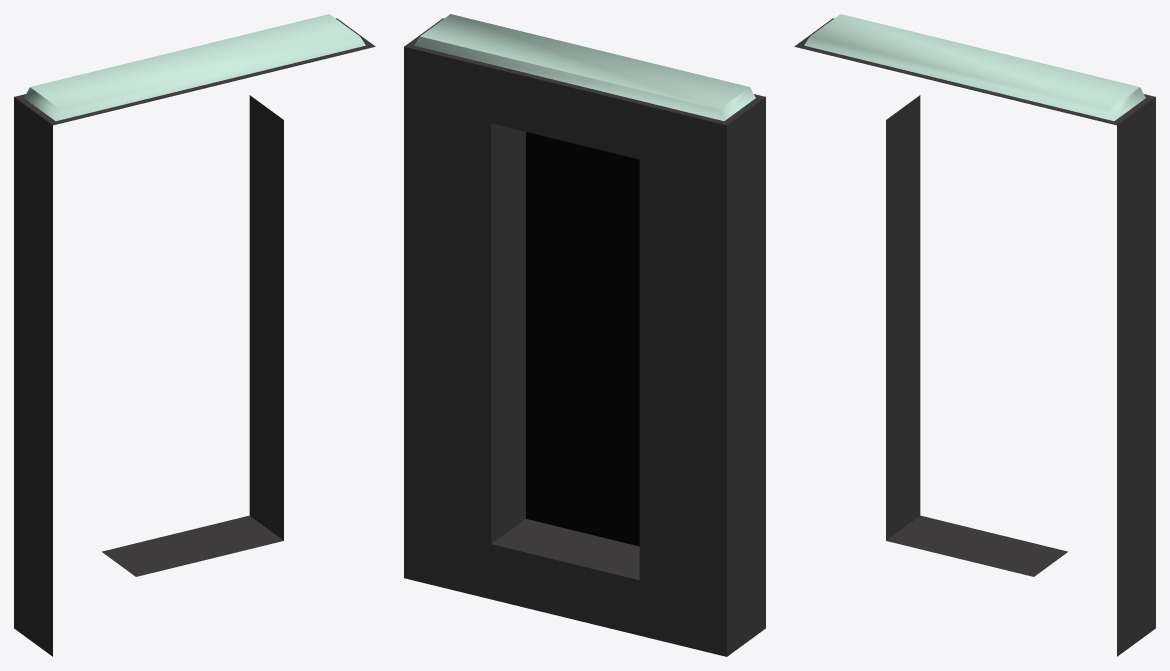
Rendered from tower-window-w.glb.
The picture shows the model from 3 angles, left to right: view 1: azimuth 30°, elevation 25°; view 2: azimuth 150°, elevation 25°; view 3: azimuth 330°, elevation 25°; orthographic projection.
Visible parts, largest first — view 1: ForestCastleWindow; view 2: ForestCastleWindow; view 3: ForestCastleWindow.
Boxes of the visible parts, x1,y1,x2,y2 form: ForestCastleWindow: (14,14,375,656); ForestCastleWindow: (404,14,765,656); ForestCastleWindow: (794,14,1155,656).
Size of the model in its own units: 81.37 by 130 by 17.03.
1 material, 1 textured.
